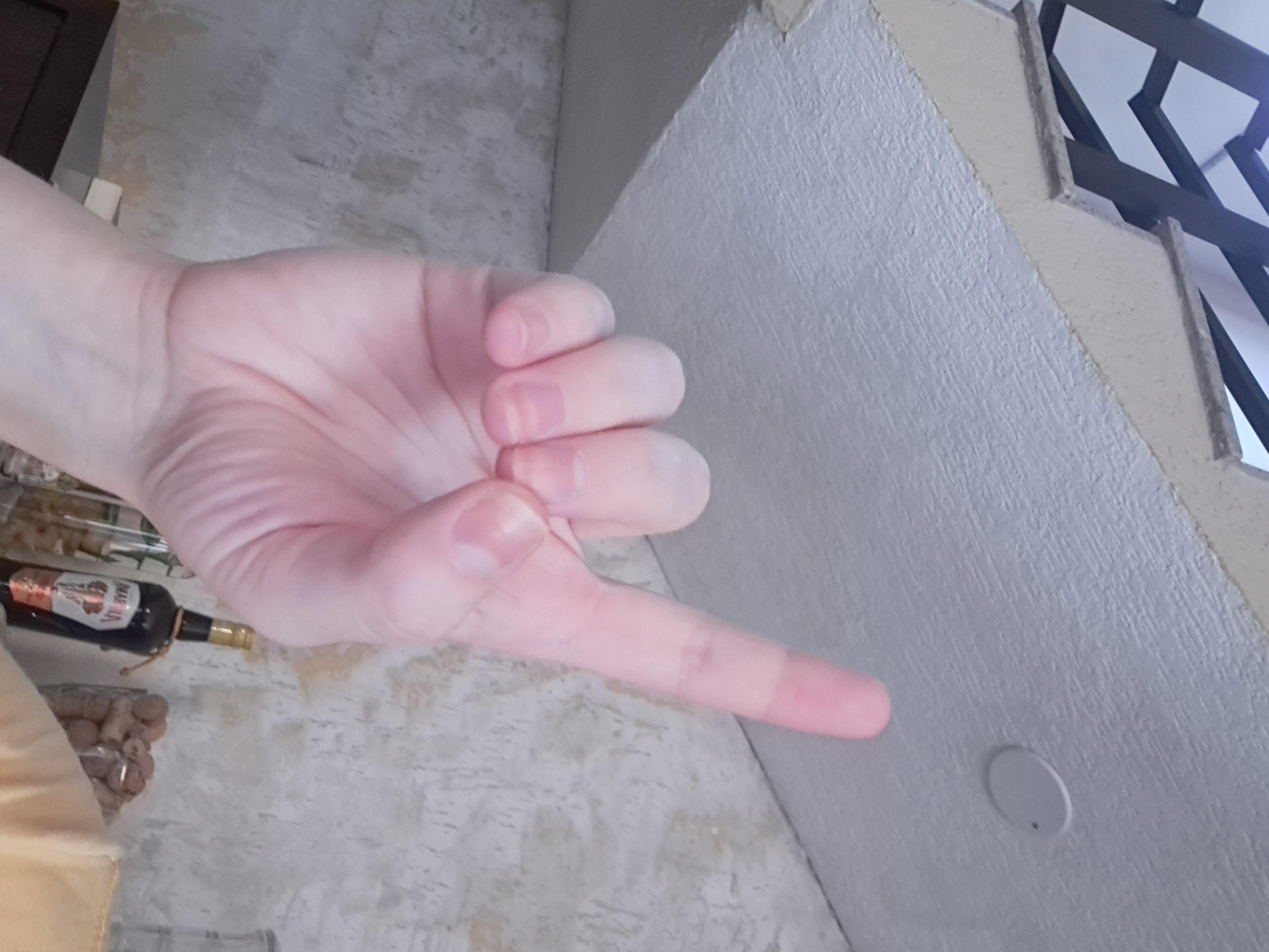D2: (301, 248, 1000, 887)
